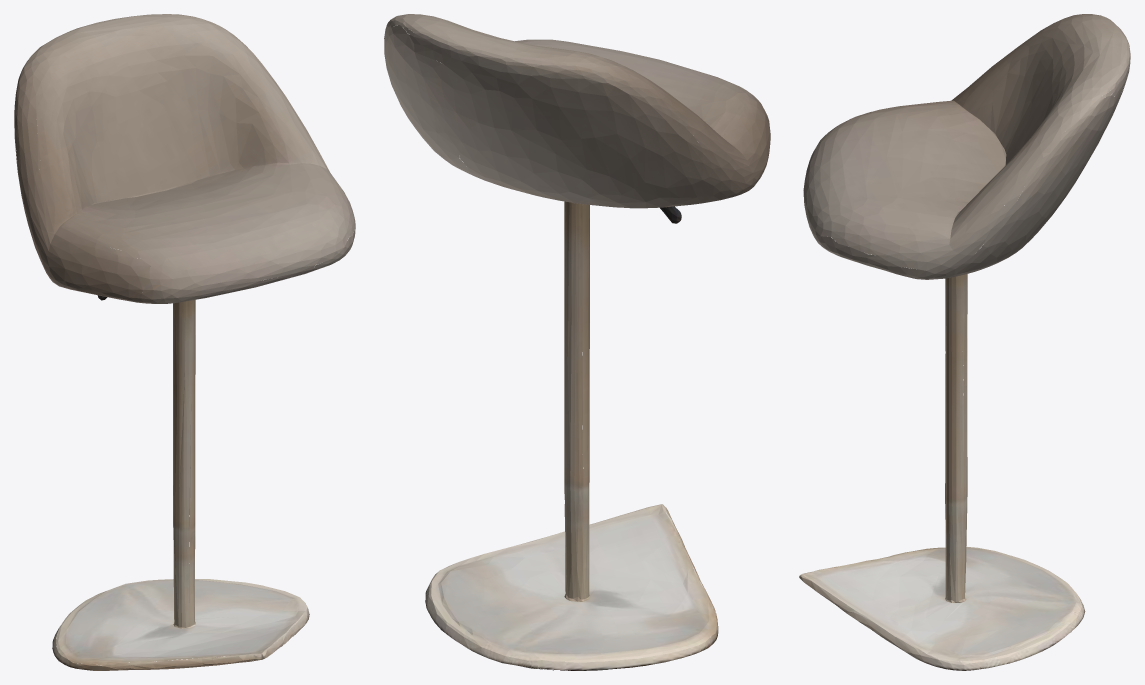
The model's file is k-tabouret.glb.
3 views of the same model, side by side, from view 1: azimuth 30°, elevation 25°; view 2: azimuth 150°, elevation 25°; view 3: azimuth 270°, elevation 25° (orthographic). The views are drawn at different scales.
Visible parts, largest first — view 1: geometry_0; view 2: geometry_0; view 3: geometry_0.
Boxes of the visible parts, <box> form: geometry_0: <box>14,14,355,670</box>; geometry_0: <box>384,14,770,670</box>; geometry_0: <box>799,14,1130,670</box>.
Size of the model in its own units: 0.5488 by 1 by 0.5347.
Materials: 1 (1 with a texture image).
